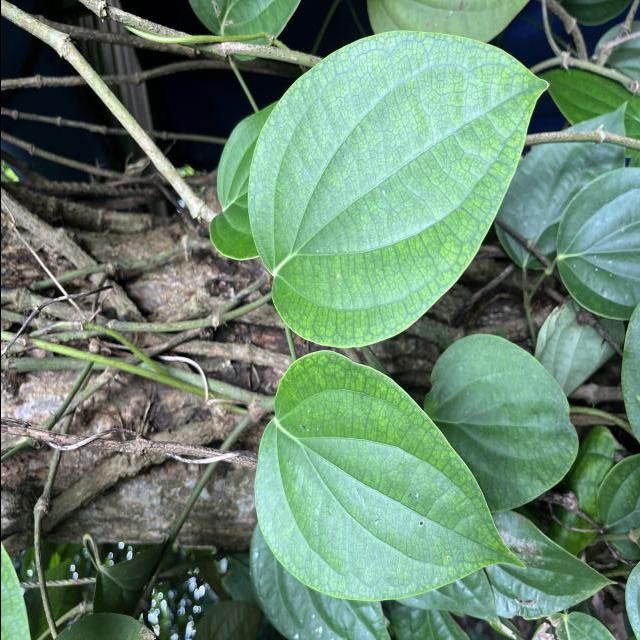Piper nigrum: (244, 27, 552, 351), (250, 349, 525, 605)
